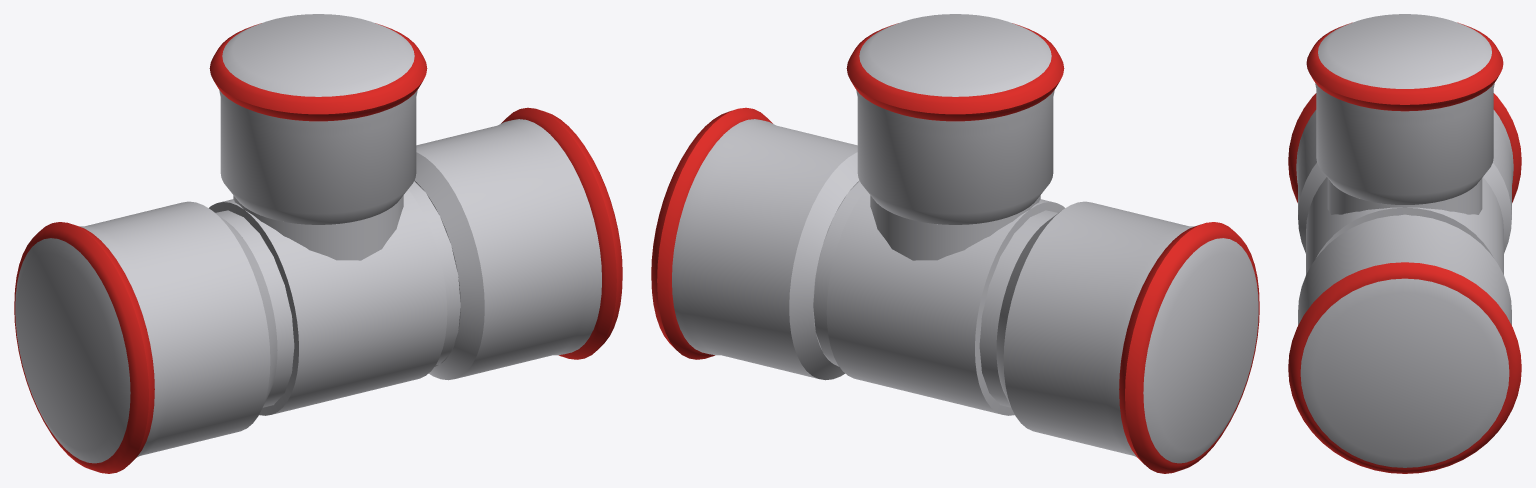
The model's file is fitting_tee_42x35_r.glb.
3 views of the same model, side by side, from view 1: azimuth 30°, elevation 25°; view 2: azimuth 150°, elevation 25°; view 3: azimuth 270°, elevation 25° (orthographic). The views are drawn at different scales.
Visible parts, largest first — view 1: раструб.001, раструб, раструб.002, узел, кольцо пресс.001, кольцо пресс.002, корпус, кольцо пресс, корпус.001; view 2: раструб.001, раструб, раструб.002, узел, кольцо пресс.001, кольцо пресс.002, корпус, кольцо пресс, корпус.001; view 3: раструб, раструб.002, кольцо пресс, узел, кольцо пресс.002, раструб.001, корпус.001, кольцо пресс.001.
Boxes of the visible parts, left/top/right/bottom form: раструб.001: left=15, top=201, right=277, bottom=463; раструб: left=414, top=119, right=601, bottom=380; раструб.002: left=219, top=14, right=417, bottom=224; узел: left=209, top=189, right=447, bottom=415; кольцо пресс.001: left=14, top=222, right=154, bottom=473; кольцо пресс.002: left=209, top=23, right=427, bottom=121; корпус: left=215, top=181, right=460, bottom=407; кольцо пресс: left=501, top=107, right=622, bottom=359; корпус.001: left=233, top=195, right=403, bottom=260; раструб.001: left=996, top=201, right=1258, bottom=463; раструб: left=672, top=119, right=859, bottom=380; раструб.002: left=856, top=14, right=1054, bottom=224; узел: left=826, top=189, right=1064, bottom=415; кольцо пресс.001: left=1119, top=222, right=1259, bottom=473; кольцо пресс.002: left=846, top=23, right=1064, bottom=121; корпус: left=813, top=181, right=1058, bottom=407; кольцо пресс: left=651, top=107, right=772, bottom=359; корпус.001: left=870, top=195, right=1040, bottom=260; раструб: left=1298, top=215, right=1511, bottom=467; раструб.002: left=1315, top=14, right=1494, bottom=204; кольцо пресс: left=1288, top=262, right=1521, bottom=473; узел: left=1306, top=177, right=1503, bottom=274; кольцо пресс.002: left=1306, top=22, right=1503, bottom=111; раструб.001: left=1296, top=110, right=1513, bottom=253; корпус.001: left=1327, top=178, right=1482, bottom=214; кольцо пресс.001: left=1288, top=93, right=1521, bottom=202.
Bounding box in the file's own units: 0.129 × 0.0877 × 0.0573.
